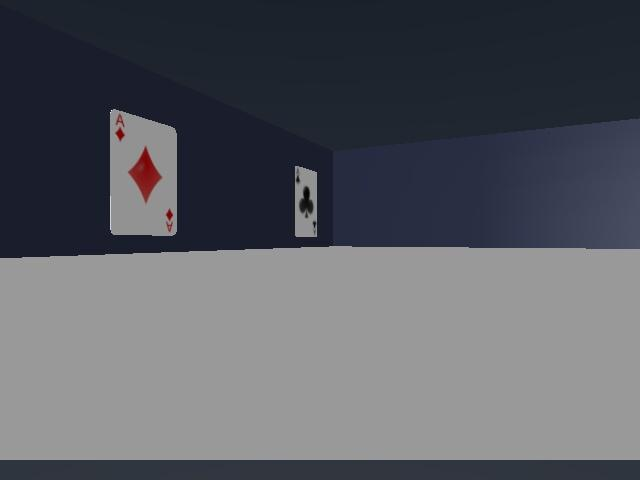club: (295, 166, 317, 236)
diamond: (110, 110, 177, 235)
